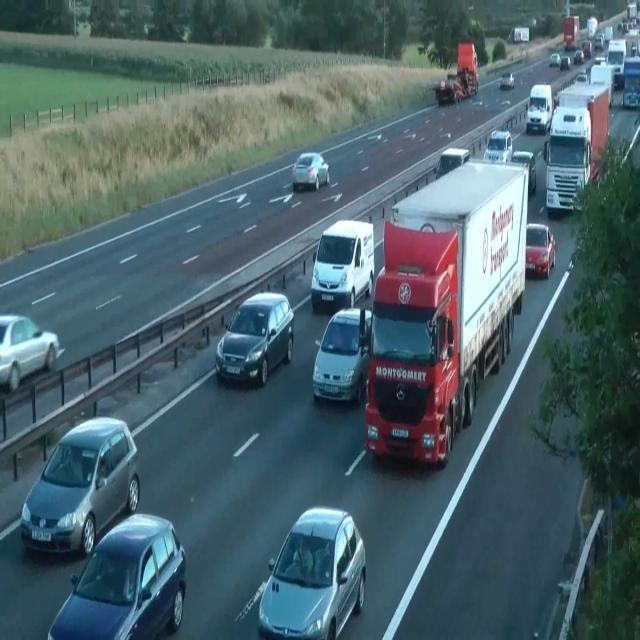bus: (47, 512, 187, 639), (258, 506, 366, 639), (214, 289, 294, 386), (0, 313, 61, 393), (525, 222, 555, 279), (292, 152, 330, 192), (433, 147, 469, 181), (510, 149, 536, 195), (482, 130, 512, 164), (434, 79, 464, 105), (622, 86, 640, 108), (173, 23, 191, 42), (498, 71, 514, 89), (574, 71, 588, 85), (582, 40, 592, 58), (549, 52, 560, 68), (573, 49, 584, 65), (594, 33, 604, 50), (560, 55, 570, 69), (594, 55, 606, 66)
jeep: (20, 415, 140, 558), (310, 219, 374, 312), (312, 307, 372, 405)
minibus: (364, 160, 528, 468), (542, 82, 610, 218), (434, 41, 478, 105), (526, 84, 552, 134), (457, 41, 479, 96), (589, 60, 615, 106), (563, 15, 579, 50), (507, 26, 529, 44), (587, 16, 598, 39)
